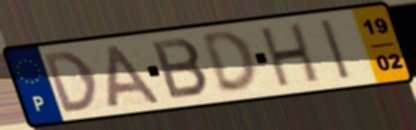A: (105, 43, 164, 110)
B: (149, 36, 214, 101)
D: (199, 28, 261, 95), (40, 48, 101, 116)
H: (258, 20, 323, 90)
I: (317, 17, 356, 83)
